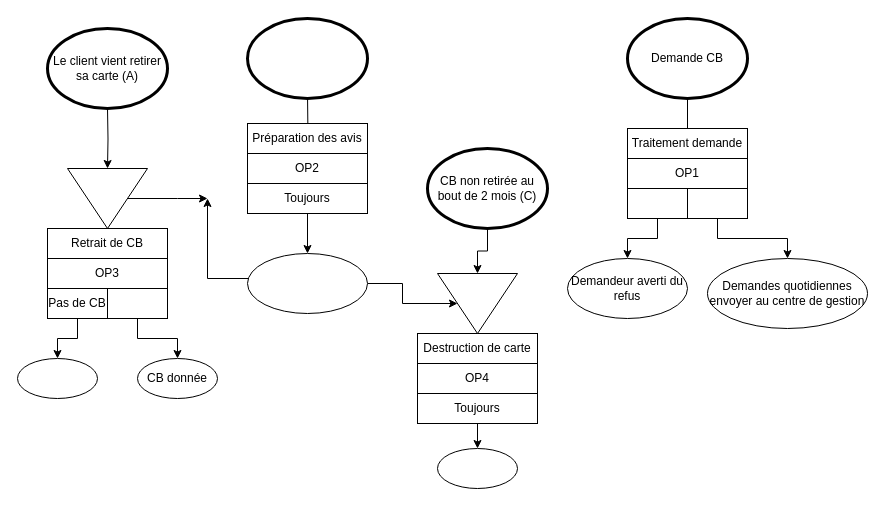
Some shapes in this 885 by 506 pixel diagram are drawn without their labels. The centre of each missing label's shape, as x and y in pixels:
"A et B ou A" belongs at (107,198).
"Avis émis (B)" belongs at (307,283).
"C et B ou C" belongs at (477,303).
"CB détruite" belongs at (477,468).
"CB Ok" belongs at (137,303).
"CB pas donnée" belongs at (57,378).
"Client" belongs at (717,203).
"Pas Client" belongs at (657,203).
"Réception des CB" belongs at (307,58).
